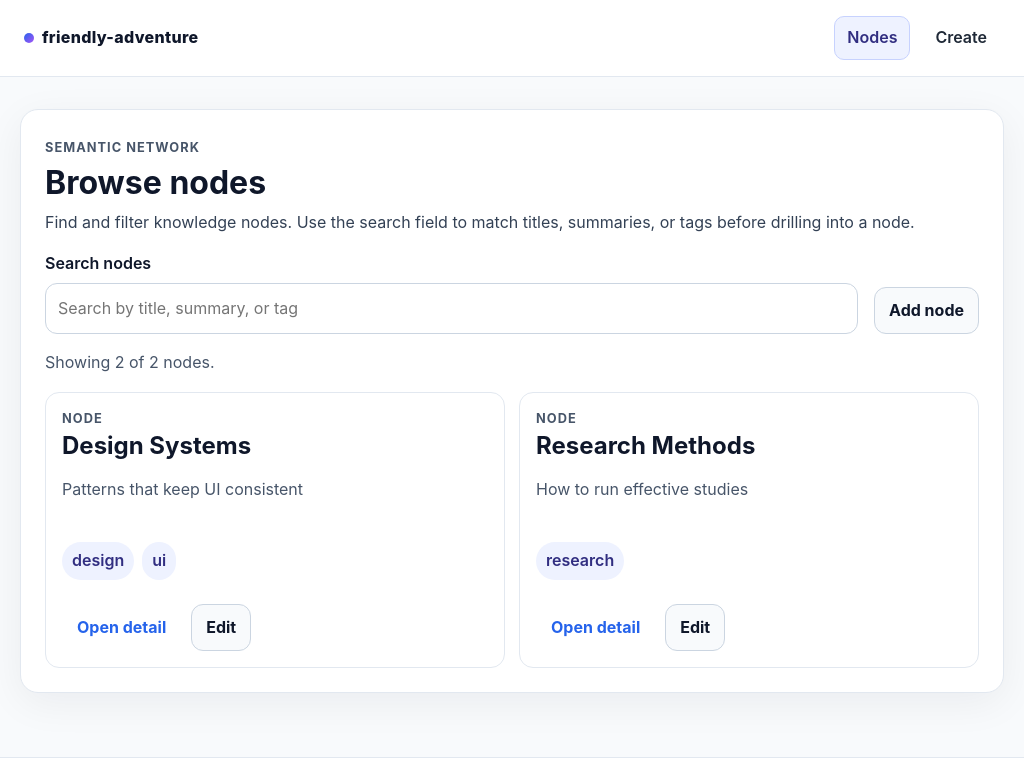
Test case: App experience › lists nodes and filters by search
Check: the heading "Browse nodes" is shown, box [45,163,266,202]
Check: the heading "Design Systems" is shown, box [62,430,251,460]
Type "design" into the search field labelled "Search nodes" at (452, 309), box [45,283,858,334]
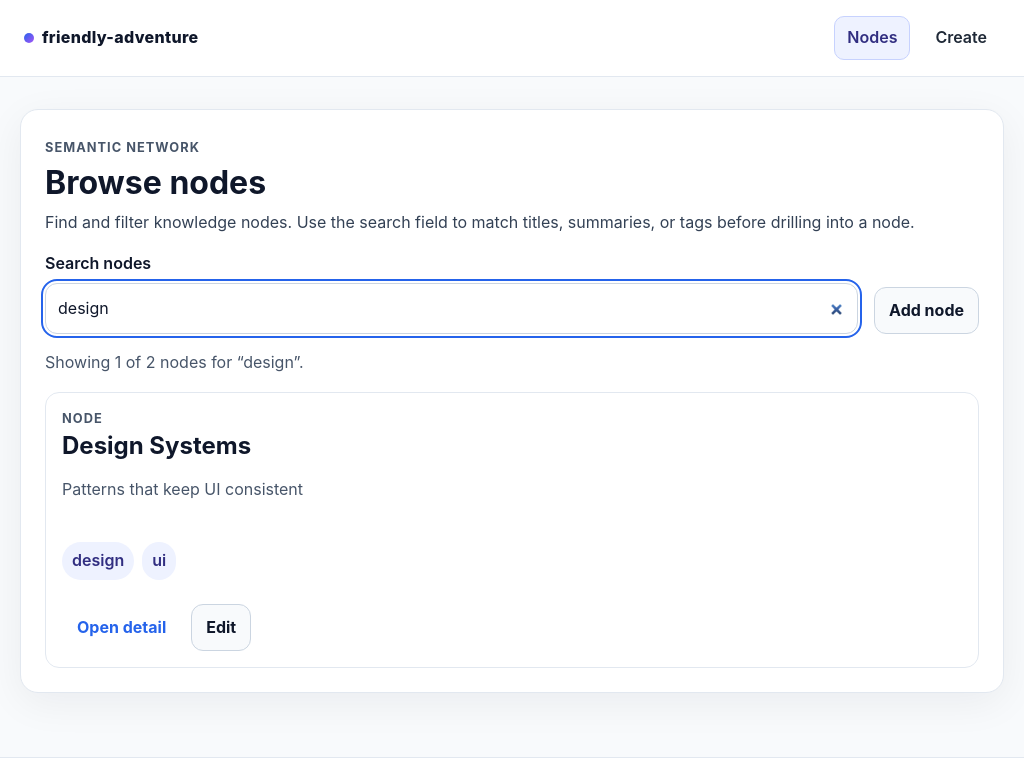
Check: the heading "Design Systems" is shown, box [62,430,251,460]
Check: the text "Showing 1 of 2 nodes for “design”." is shown, box [45,352,304,372]
Check: the link "Research Methods" is gone
